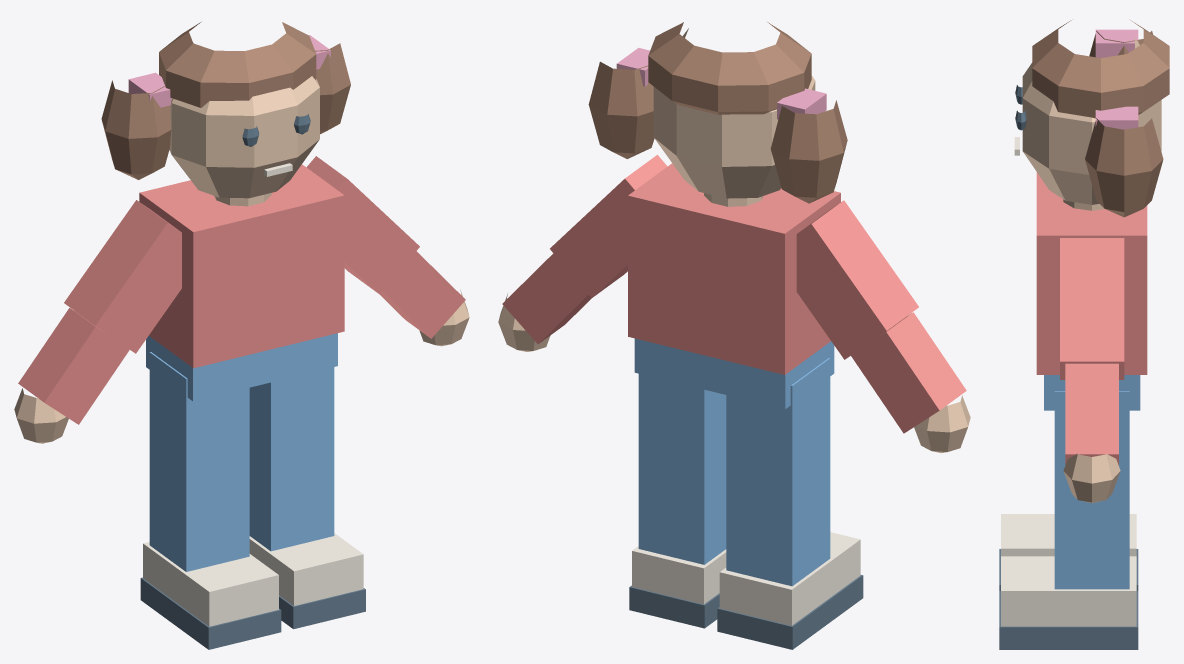
File: 03_runner_skin_red.glb
The picture shows the model from 3 angles, left to right: view 1: azimuth 30°, elevation 25°; view 2: azimuth 150°, elevation 25°; view 3: azimuth 270°, elevation 25°; orthographic projection. The views are drawn at different scales.
Parts seen in each view (by area): view 1: 03_runner_skin_red; view 2: 03_runner_skin_red; view 3: 03_runner_skin_red.
Part boxes in pixels (box(x1,y1,x2,y2)): 03_runner_skin_red: box(14, 22, 469, 649); 03_runner_skin_red: box(498, 22, 970, 649); 03_runner_skin_red: box(999, 19, 1169, 649).
Size of the model in its own units: 1.49 by 1.78 by 0.4777.
